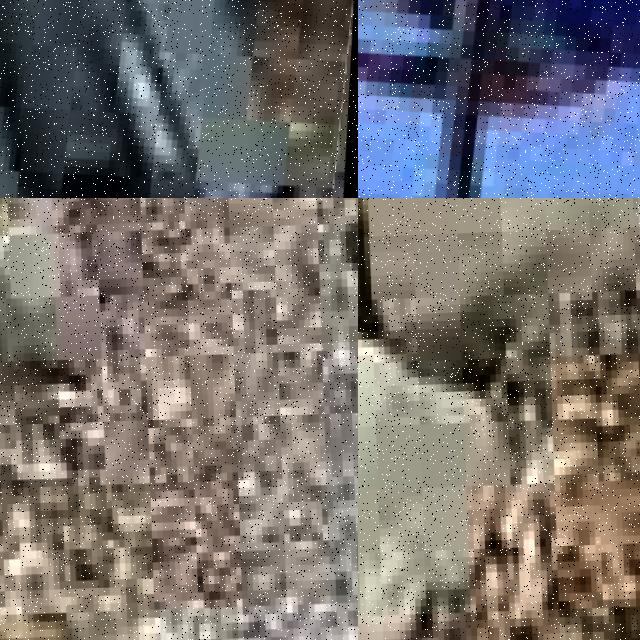0: (0, 0, 358, 198)
drone: (358, 0, 640, 198)
